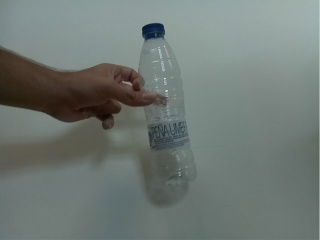botella plastico: (132, 20, 200, 190)
